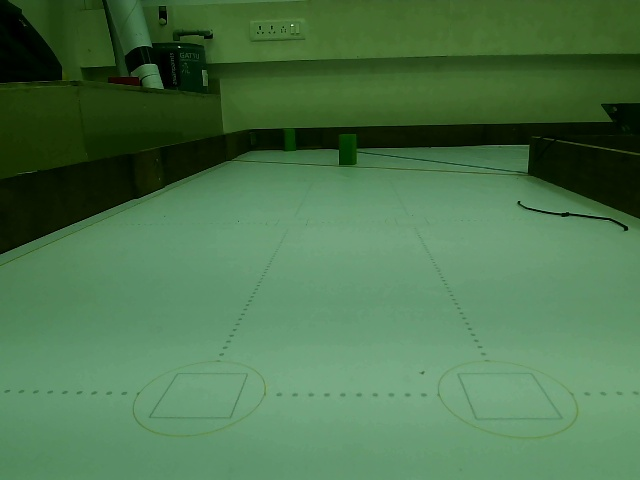green: (338, 133, 357, 165)
